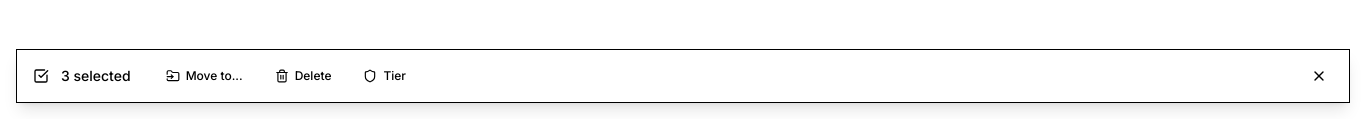
Test: BatchActionBar › shows "No folders" when no root folders exist
Click the button "Move to..." at (204, 76), box [156,62,253,90]
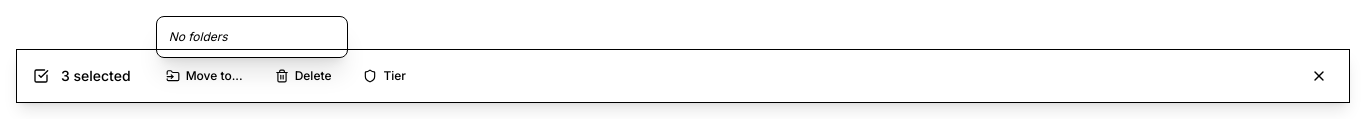
Check: the text "No folders" is shown, box [169,29,228,44]
